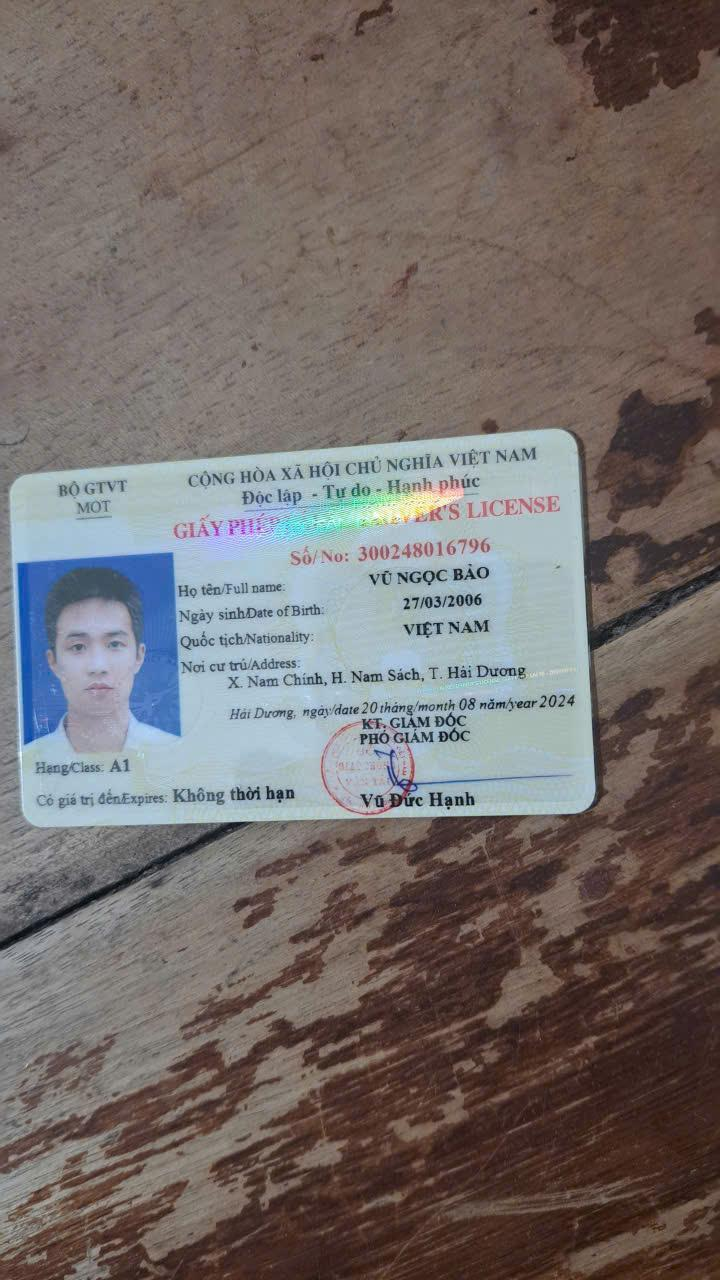gplx: (0, 421, 602, 835)
